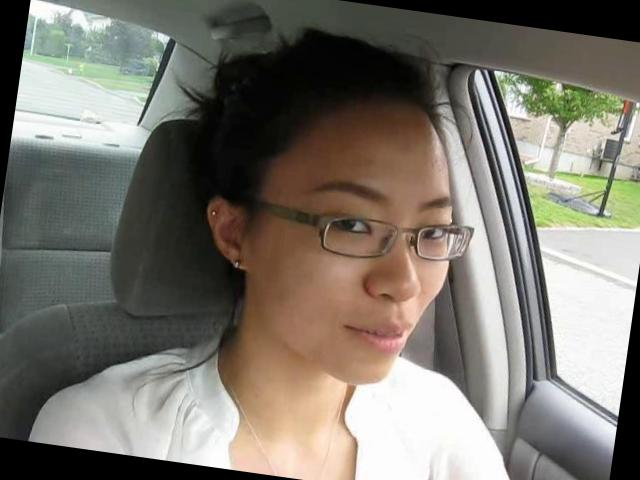eye_open: (319, 206, 385, 248), (412, 218, 454, 255)
face: (243, 152, 468, 399)
